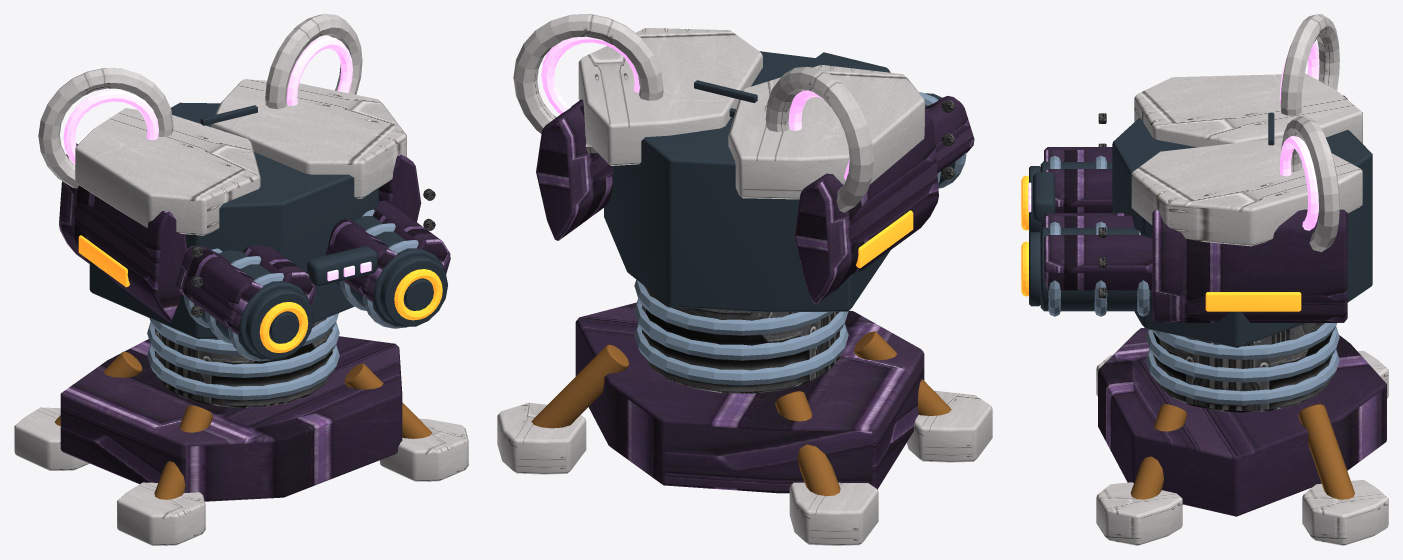
Rendered from sector_08_3.glb.
The picture shows the model from 3 angles, left to right: view 1: azimuth 30°, elevation 25°; view 2: azimuth 150°, elevation 25°; view 3: azimuth 270°, elevation 25°; orthographic projection. The views are drawn at different scales.
Visible parts, largest first — view 1: Turret hex anchor, Splayed planted foot, Sloped rotating gun mantle, Turntable bearing, Rotating actuator, Induction inner ring, Anchoring hydraulic, Muzzle lens ring; view 2: Splayed planted foot, Turret hex anchor, Sloped rotating gun mantle, Turntable bearing, Anchoring hydraulic, Rotating actuator, Induction inner ring, Muzzle lens ring; view 3: Turret hex anchor, Splayed planted foot, Sloped rotating gun mantle, Turntable bearing, Rotating actuator, Anchoring hydraulic, Muzzle lens ring, Induction inner ring.
Part boxes in pixels (x1,y1,x2,y2): Turret hex anchor: [59, 143, 450, 501]; Splayed planted foot: [14, 14, 468, 545]; Sloped rotating gun mantle: [89, 102, 447, 359]; Turntable bearing: [147, 209, 418, 400]; Rotating actuator: [154, 188, 435, 407]; Induction inner ring: [63, 37, 371, 281]; Anchoring hydraulic: [55, 351, 432, 499]; Muzzle lens ring: [78, 235, 442, 352]; Splayed planted foot: [497, 14, 992, 545]; Turret hex anchor: [536, 96, 974, 493]; Sloped rotating gun mantle: [604, 51, 955, 312]; Turntable bearing: [634, 92, 966, 385]; Anchoring hydraulic: [531, 331, 951, 496]; Rotating actuator: [642, 99, 955, 393]; Induction inner ring: [541, 36, 849, 180]; Muzzle lens ring: [856, 210, 913, 268]; Turret hex anchor: [1044, 95, 1386, 516]; Splayed planted foot: [1096, 14, 1388, 545]; Sloped rotating gun mantle: [1029, 113, 1372, 347]; Turntable bearing: [1048, 155, 1339, 404]; Rotating actuator: [1098, 113, 1332, 412]; Anchoring hydraulic: [1130, 404, 1354, 499]; Muzzle lens ring: [1021, 175, 1301, 311]; Induction inner ring: [1028, 41, 1319, 230].
Bounding box in the file's own units: 1.1 × 1.22 × 1.03.
8 materials, 3 textured.
